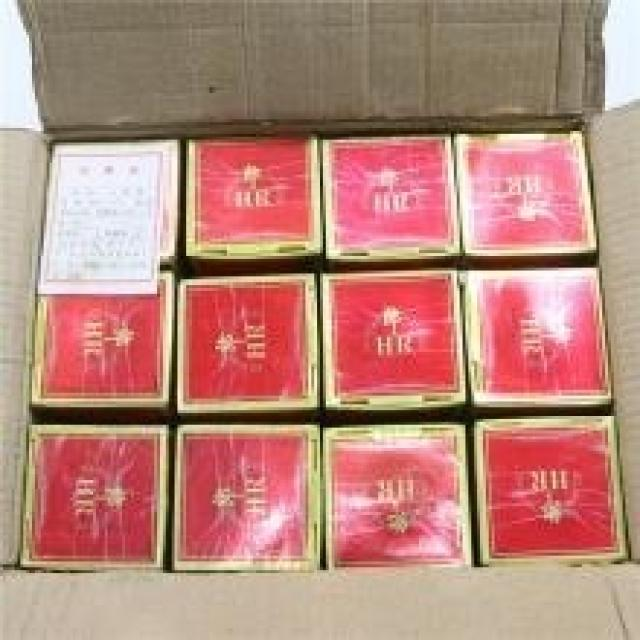box: (474, 416, 628, 567), (323, 425, 471, 570), (175, 425, 323, 570), (320, 268, 465, 413), (460, 268, 611, 407), (20, 425, 166, 567), (175, 273, 320, 413), (320, 134, 463, 273), (451, 131, 596, 268), (32, 273, 175, 407), (186, 134, 323, 273)
